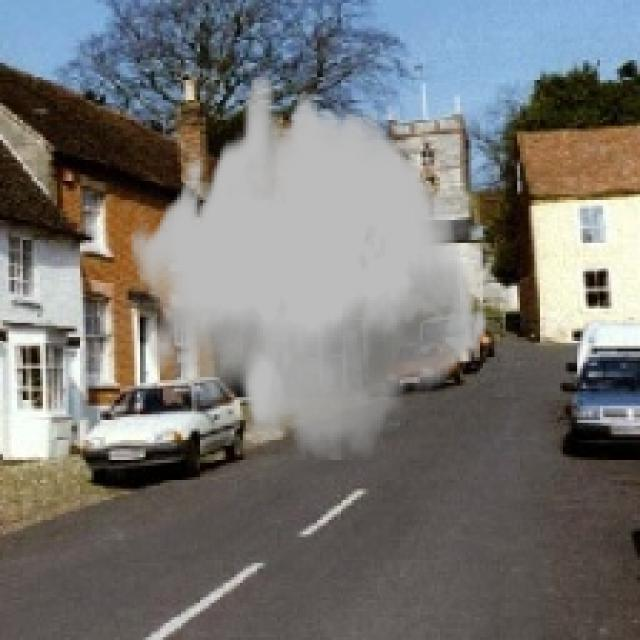Smoke: (128, 77, 488, 460)
